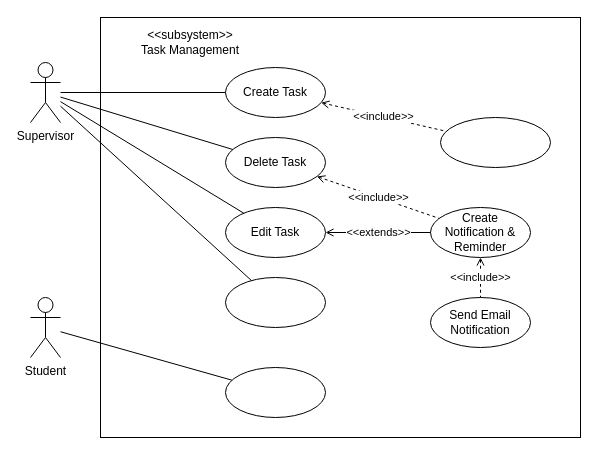
This 598x455 diagram has some shape labels left out. The shapes that lost their labels are listed below. From the top down, each one's centre as x and y in pixels, then its label:
At point (495, 142): "Set Task Due Date".
At point (275, 302): "Lock Task".
At point (275, 392): "View Task".
